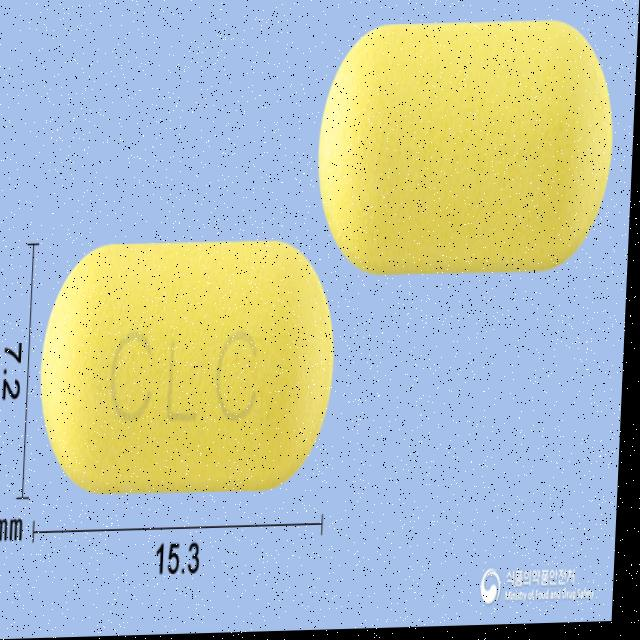Claric: (36, 231, 346, 505)
